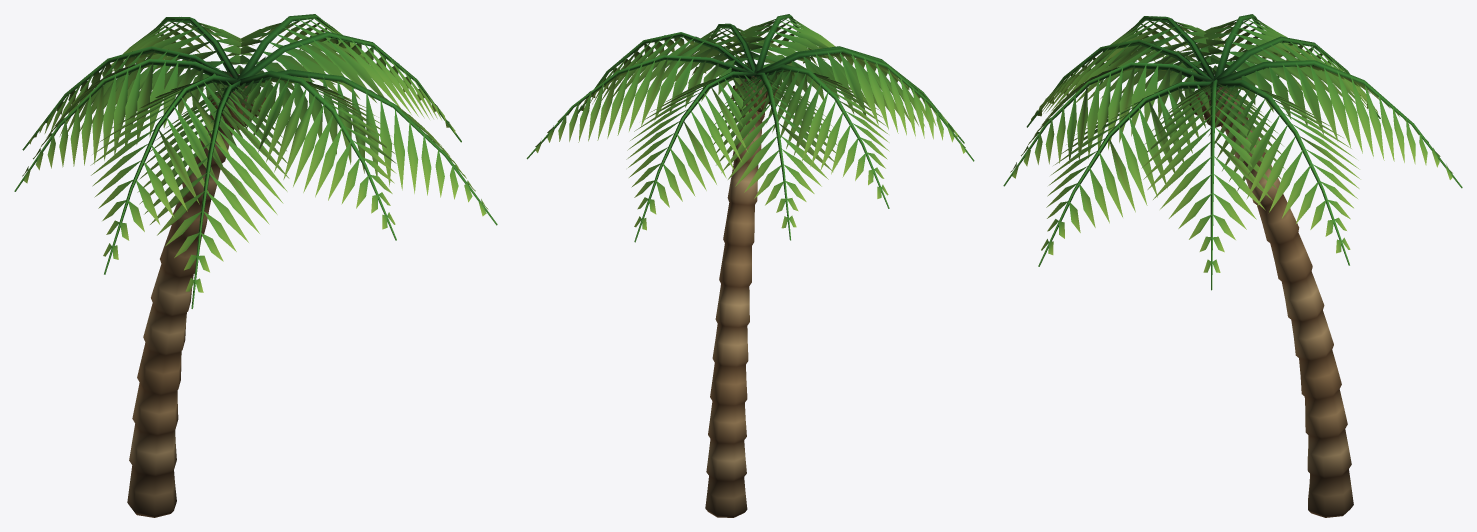
Rendered from tree-palm.glb.
3 views of the same model, side by side, from view 1: azimuth 30°, elevation 25°; view 2: azimuth 150°, elevation 25°; view 3: azimuth 270°, elevation 25° (orthographic). The views are drawn at different scales.
Visible parts, largest first — view 1: 1_leaves.006, 0_trunk.006; view 2: 1_leaves.006, 0_trunk.006; view 3: 1_leaves.006, 0_trunk.006.
Part boxes in pixels (box(x1,y1,x2,y2)): 1_leaves.006: box(14, 14, 497, 308); 0_trunk.006: box(127, 74, 248, 517); 1_leaves.006: box(526, 14, 974, 242); 0_trunk.006: box(705, 76, 766, 517); 1_leaves.006: box(1003, 14, 1462, 290); 0_trunk.006: box(1205, 87, 1353, 517).
Size of the model in its own units: 5.07 by 5.77 by 5.12.
